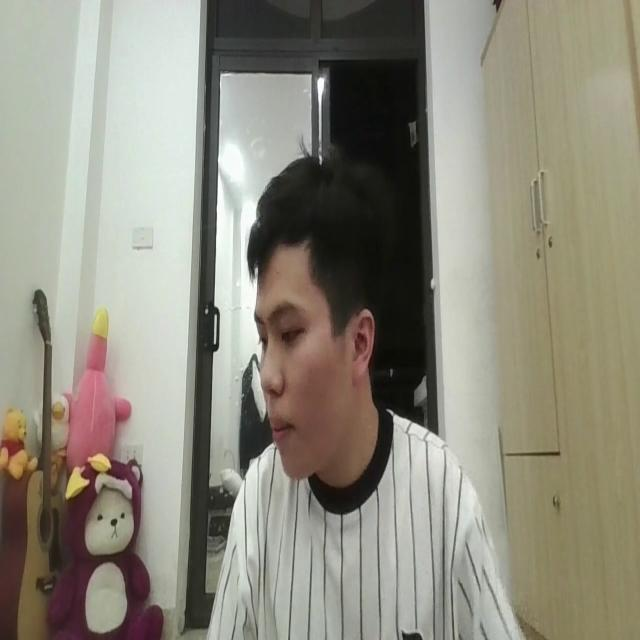student: (215, 138, 524, 640)
